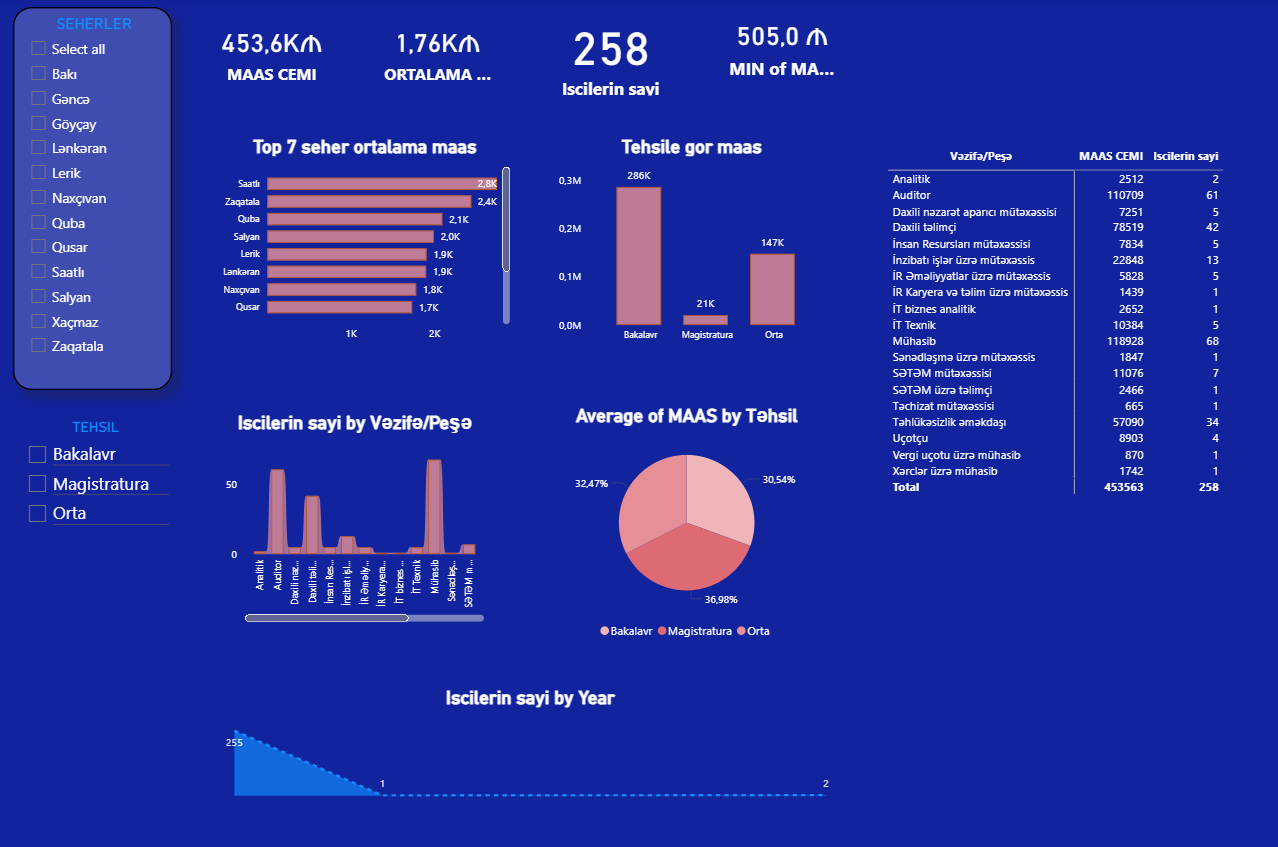

What the dashboard file says about the page in this screenshot:
{"tool":"powerbi","page":{"name":"HESABAT","canvas":[1500,1000],"ordinal":0},"visuals":[{"type":"card","title":"maas cemi","fields":{"Values":["Nümunə cədvəl.MAAS CEMI"]},"box":[252.9,12.2,138.1,105.2],"z":1000,"group":"g1"},{"type":"card","title":"maas cemi","fields":{"Values":["Nümunə cədvəl.ORTALAMA MAAS"]},"box":[440.4,12.2,148.9,105.2],"z":1000,"group":"g2"},{"type":"card","fields":{"Values":["Nümunə cədvəl.Iscilerin sayi"]},"box":[651.1,15.5,135.6,105.6],"z":1000,"group":"g3"},{"type":"card","fields":{"Values":["Nümunə cədvəl.MIN of MAAS average per customer ID"]},"box":[850.7,18.6,135.6,79.6],"z":1000,"group":"g4"},{"type":"group","id":"g1","title":"Group 1","box":[247.8,12.2,156.7,113.3],"z":8000},{"type":"group","id":"g2","title":"Group 1","box":[435,12.2,168.9,113.3],"z":9000},{"type":"clusteredColumnChart","title":"Tehsile gor maas","fields":{"Category":["Nümunə cədvəl.Təhsil"],"Y":["Nümunə cədvəl.MAAS CEMI"]},"box":[651.1,162.2,322.2,250],"z":10000},{"type":"clusteredBarChart","title":"Top 7 seher ortalama maas","fields":{"Category":["Nümunə cədvəl.Seher"],"Y":["Nümunə cədvəl.ORTALAMA MAAS"]},"box":[254.4,162.2,350,250],"z":11000},{"type":"areaChart","fields":{"Category":["Nümunə cədvəl.İşə giriş tarixi.Variation.Date Hierarchy.Year","Nümunə cədvəl.İşə giriş tarixi.Variation.Date Hierarchy.Month"],"Y":["Nümunə cədvəl.Iscilerin sayi"]},"box":[262.2,808.5,723.3,133.6],"z":12000},{"type":"slicer","title":"SEHERLER","fields":{"Values":["Nümunə cədvəl.Seher"]},"box":[17.8,12.3,186.6,448.7],"z":13000},{"type":"slicer","title":"TEHSIL","fields":{"Values":["Nümunə cədvəl.Təhsil"]},"box":[23,493,182,151],"z":14000},{"type":"pieChart","fields":{"Category":["Nümunə cədvəl.Təhsil"],"Y":["Avg(Nümunə cədvəl.MAAS)"]},"box":[658.1,476.1,299,285.6],"z":18000},{"type":"ribbonChart","fields":{"Category":["Nümunə cədvəl.Vəzifə/Peşə"],"Y":["Nümunə cədvəl.Iscilerin sayi"]},"box":[262.2,484.4,312.4,252.2],"z":19000},{"type":"group","id":"g3","title":"Group 2","box":[634.4,12.2,168.9,113.3],"z":20000},{"type":"pivotTable","fields":{"Rows":["Nümunə cədvəl.Vəzifə/Peşə"],"Values":["Nümunə cədvəl.MAAS CEMI","Nümunə cədvəl.Iscilerin sayi"]},"box":[1038.4,171.4,402.8,481.8],"z":21000},{"type":"group","id":"g4","title":"Group 3","box":[833.8,12.2,168.9,113.3],"z":22000}]}

Visuals, with their boxes in screenshot pixels (x1, y1, x2, y2), scaled from the page's 1500x1000 canvas onto the 1278x847 screenshot:
"maas cemi" card: box=[215, 10, 333, 99]
"maas cemi" card: box=[375, 10, 502, 99]
card - Nümunə cədvəl.Iscilerin sayi: box=[555, 13, 670, 103]
card - Nümunə cədvəl.MIN of MAAS average per customer ID: box=[725, 16, 840, 83]
"Group 1" group: box=[211, 10, 345, 106]
"Group 1" group: box=[371, 10, 515, 106]
"Tehsile gor maas" clusteredColumnChart: box=[555, 137, 829, 349]
"Top 7 seher ortalama maas" clusteredBarChart: box=[217, 137, 515, 349]
areaChart - Nümunə cədvəl.İşə giriş tarixi.Variation.Date Hierarchy.Year x Nümunə cədvəl.İşə giriş tarixi.Variation.Date Hierarchy.Month: box=[223, 685, 840, 798]
"SEHERLER" slicer: box=[15, 10, 174, 390]
"TEHSIL" slicer: box=[20, 418, 175, 545]
pieChart - Nümunə cədvəl.Təhsil x Avg(Nümunə cədvəl.MAAS): box=[561, 403, 815, 645]
ribbonChart - Nümunə cədvəl.Vəzifə/Peşə x Nümunə cədvəl.Iscilerin sayi: box=[223, 410, 490, 624]
"Group 2" group: box=[541, 10, 684, 106]
pivotTable - Nümunə cədvəl.Vəzifə/Peşə x Nümunə cədvəl.MAAS CEMI: box=[885, 145, 1228, 553]
"Group 3" group: box=[710, 10, 854, 106]
